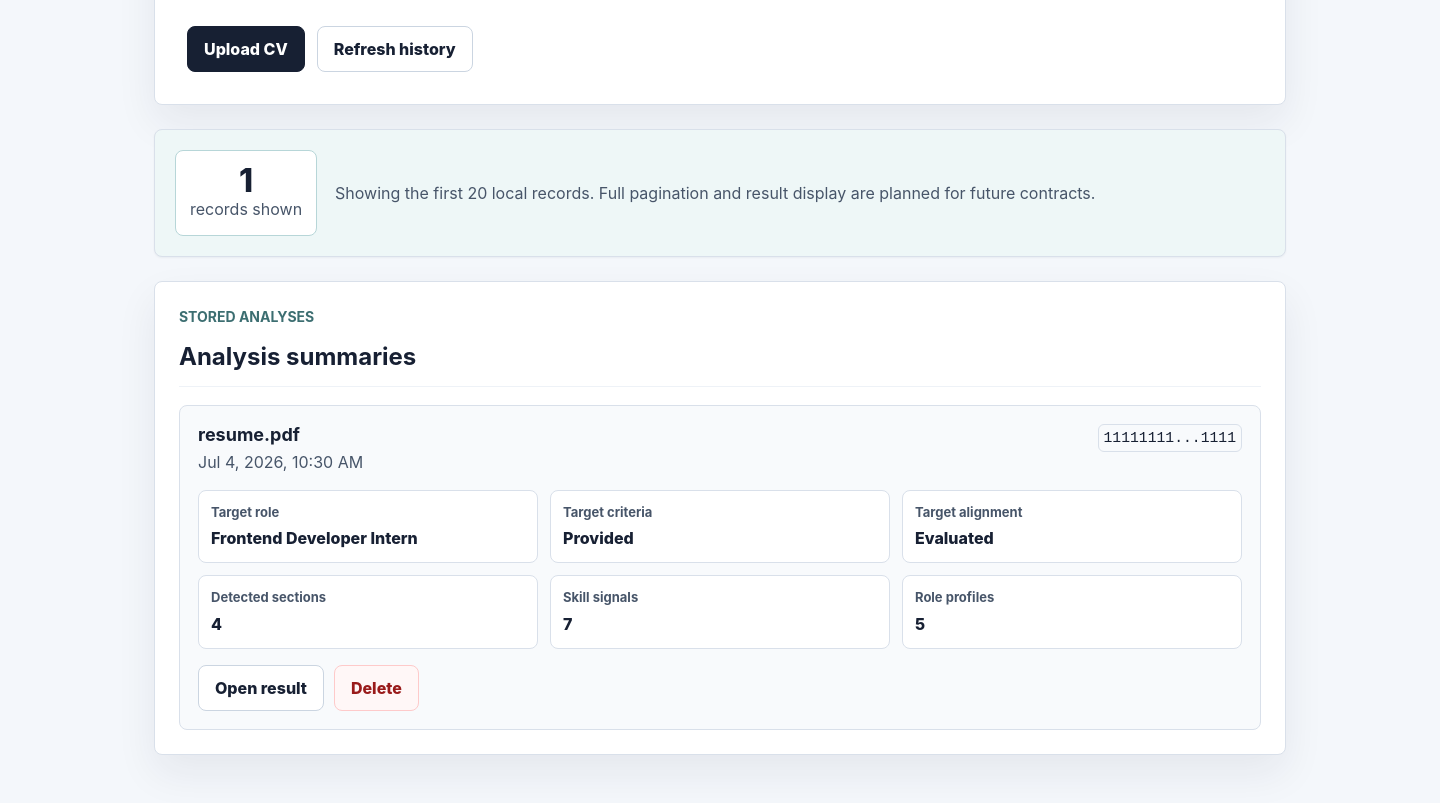
Test: App › keeps the saved analysis visible when delete fails
(page scrolled)
Expected: the heading "resume.pdf" is shown, [198, 424, 300, 445]
Click the button "Delete" at (376, 688), box [334, 665, 419, 711]
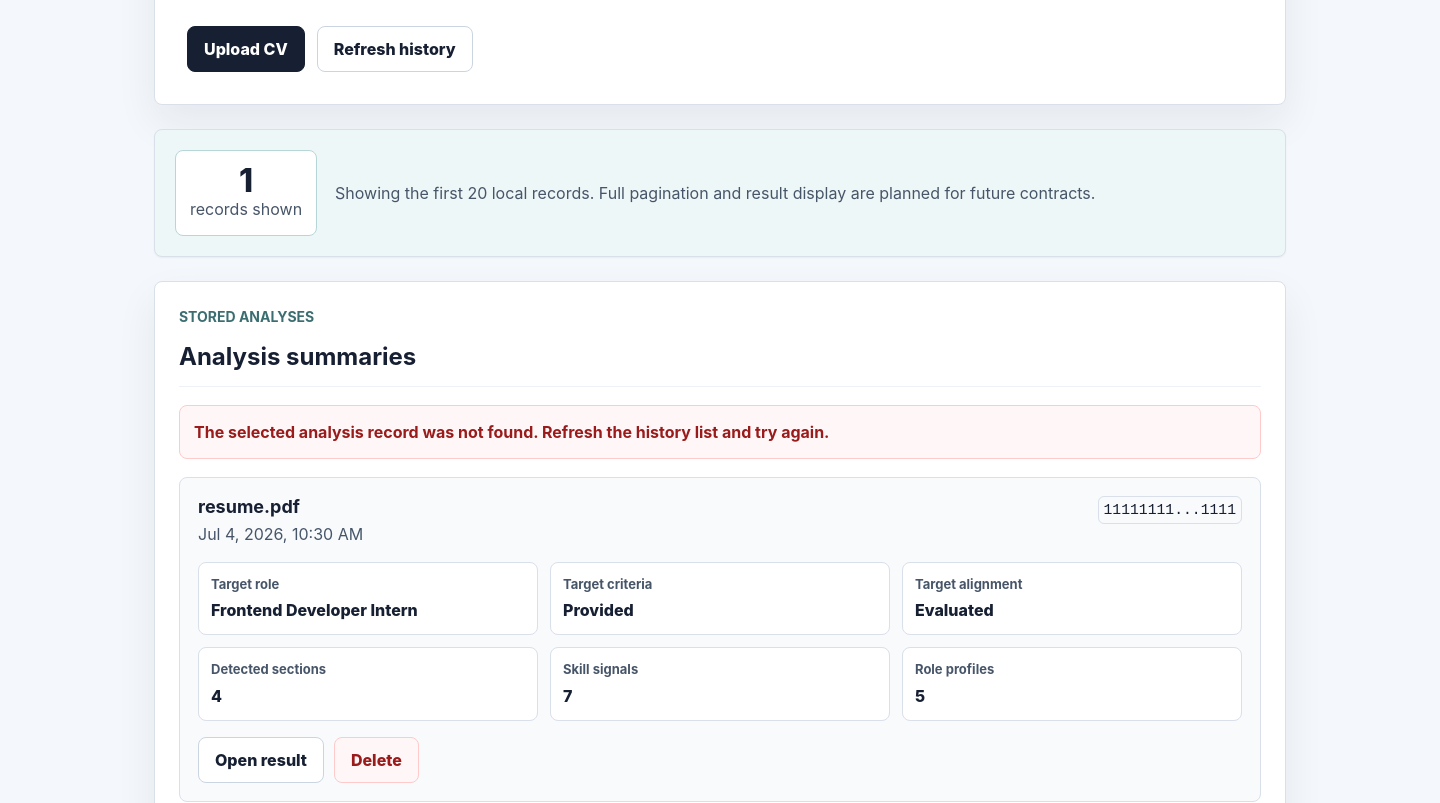
Expected: the heading "resume.pdf" is shown, [198, 496, 300, 517]
Result: the message shows "The selected analysis record was not found. Refresh the history list and try again." at [194, 422, 830, 442]
